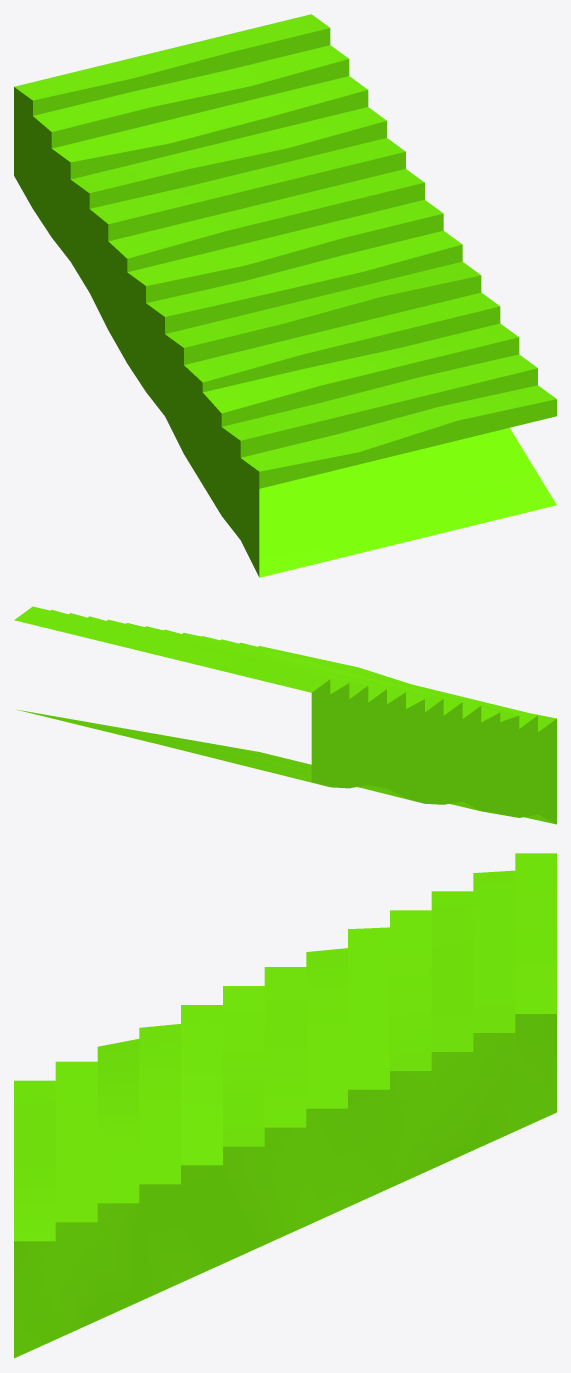
Rendered from Floor_Stairs.FBX.
3 renders of one model, top to bottom at view 1: azimuth 30°, elevation 25°; view 2: azimuth 150°, elevation 25°; view 3: azimuth 270°, elevation 25°, orthographic. The views are drawn at different scales.
Parts seen in each view (by area): view 1: Floor_Stairs; view 2: Floor_Stairs; view 3: Floor_Stairs.
Boxes of the visible parts, left/top/right/bottom form: Floor_Stairs: left=14, top=14, right=556, bottom=577; Floor_Stairs: left=14, top=606, right=556, bottom=824; Floor_Stairs: left=14, top=853, right=556, bottom=1358.
Bounding box in the file's own units: 350 × 350 × 500.
